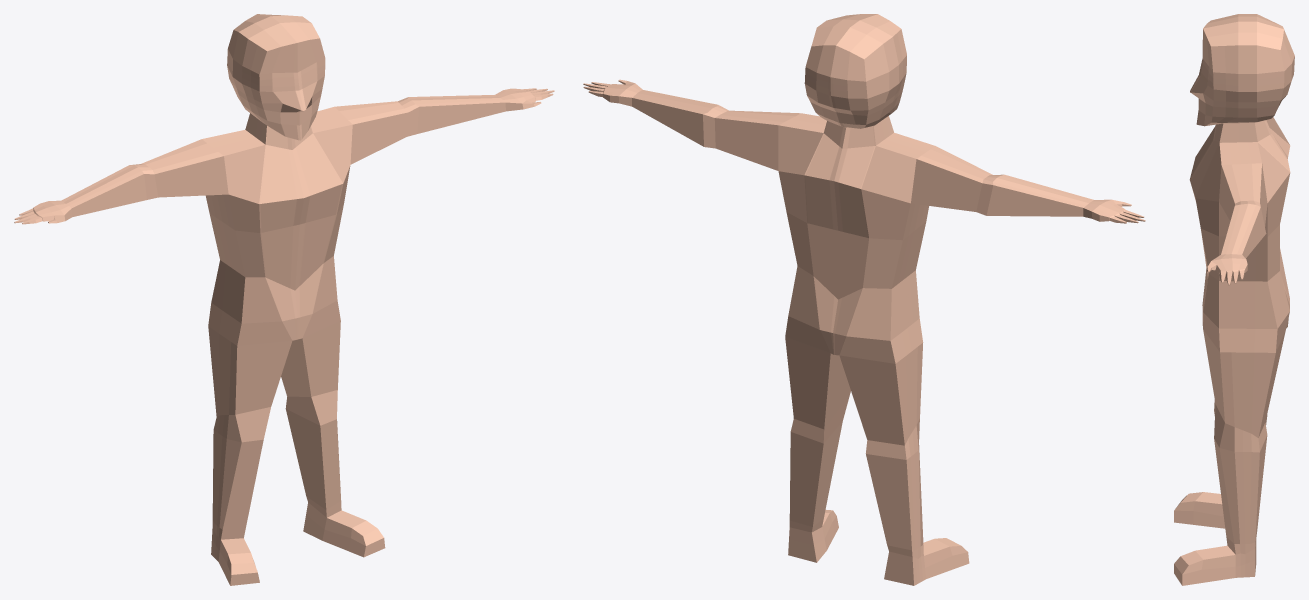
Rendered from Inspector_Model_col.glb.
3 views of the same model, side by side, from view 1: azimuth 30°, elevation 25°; view 2: azimuth 150°, elevation 25°; view 3: azimuth 270°, elevation 25° (orthographic). The views are drawn at different scales.
Visible parts, largest first — view 1: character-colonly; view 2: character-colonly; view 3: character-colonly.
Part boxes in pixels (x1=…): character-colonly: x1=14, y1=14, x2=554, y2=585; character-colonly: x1=583, y1=14, x2=1145, y2=585; character-colonly: x1=1174, y1=14, x2=1294, y2=585.
Size of the model in its own units: 13.93 by 12.91 by 2.69.
